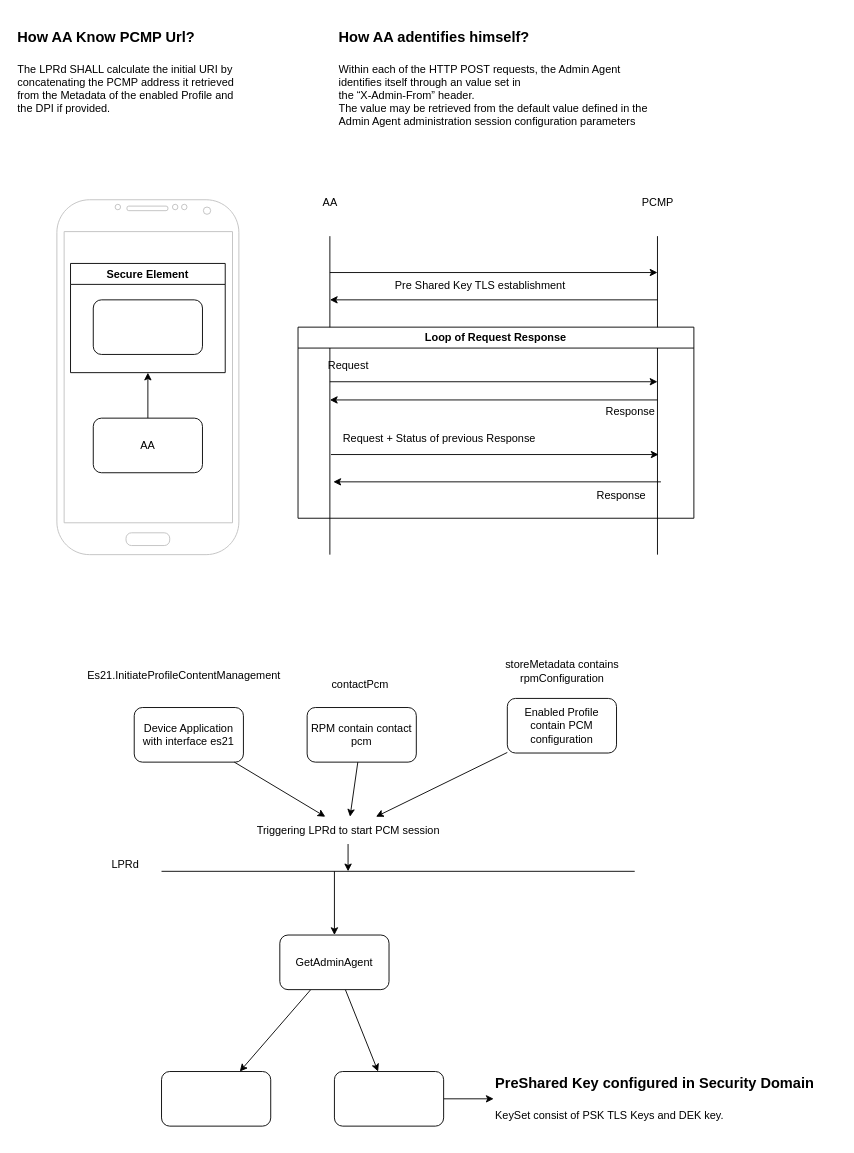
This 854x1153 diagram has some shape labels left out. The shapes that lost their labels are listed below. From the top down, each one's box as (x1, y1, x2, y2) in pixels, then its label:
(92, 299, 202, 354): Seucirty Domain
(161, 1071, 271, 1126): GetListOfSE
(334, 1071, 444, 1126): SecuritDomain KeySet
